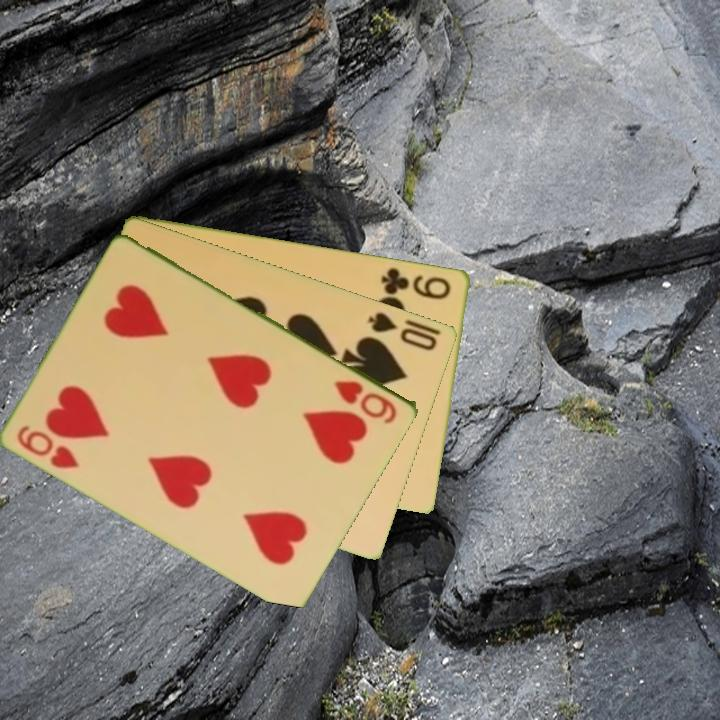10s: (365, 308, 440, 354)
6h: (331, 376, 401, 427), (14, 421, 83, 472)
9c: (378, 263, 454, 302)
